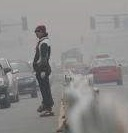person: (32, 23, 55, 117)
